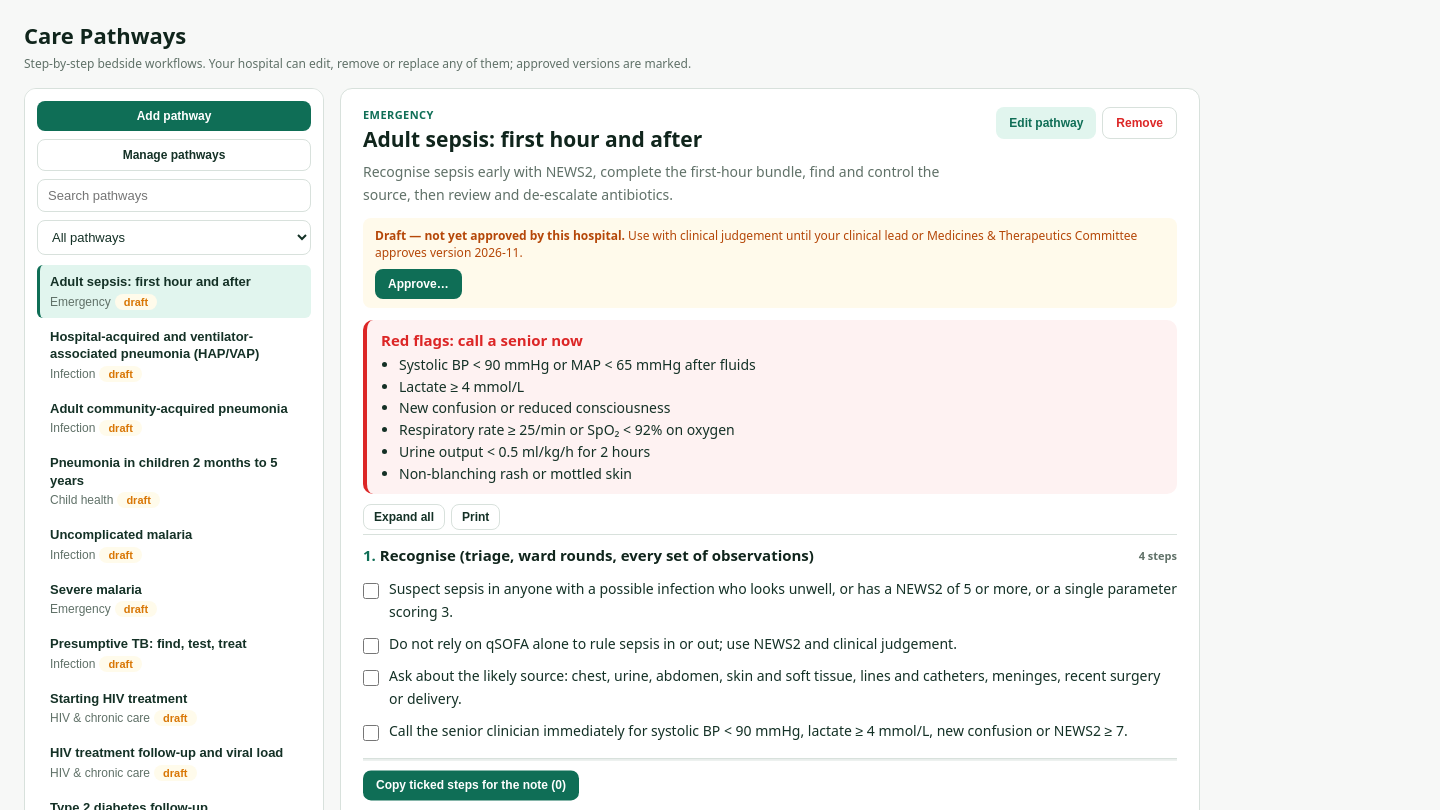
Test: care pathways: hospital control › start fresh hides every built-in pathway and leaves an empty list ready for the hospital's own
Click the button "Manage pathways": (174, 155) x1=37 y1=139 x2=311 y2=171
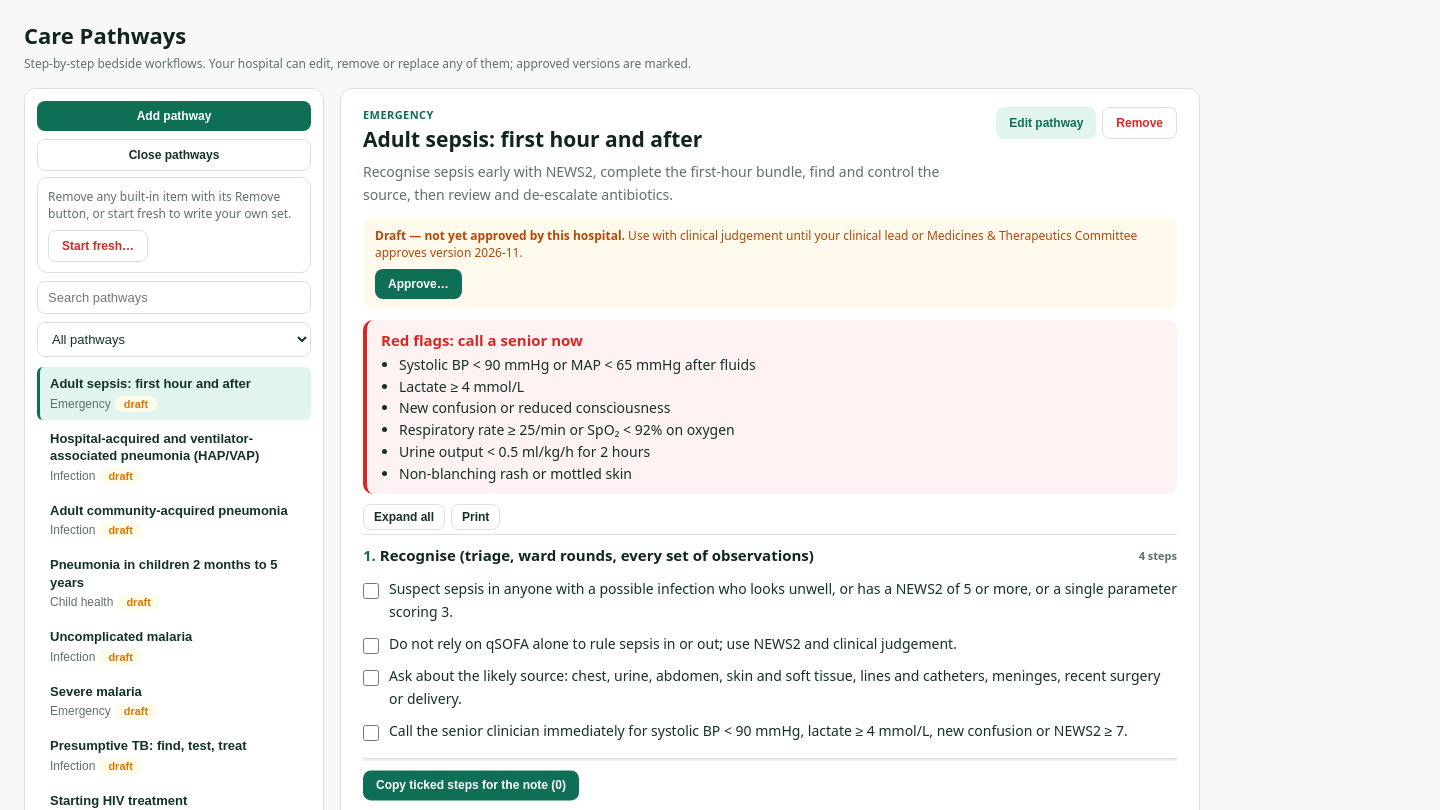
Click the button "Start fresh…": (98, 246) x1=48 y1=230 x2=148 y2=262
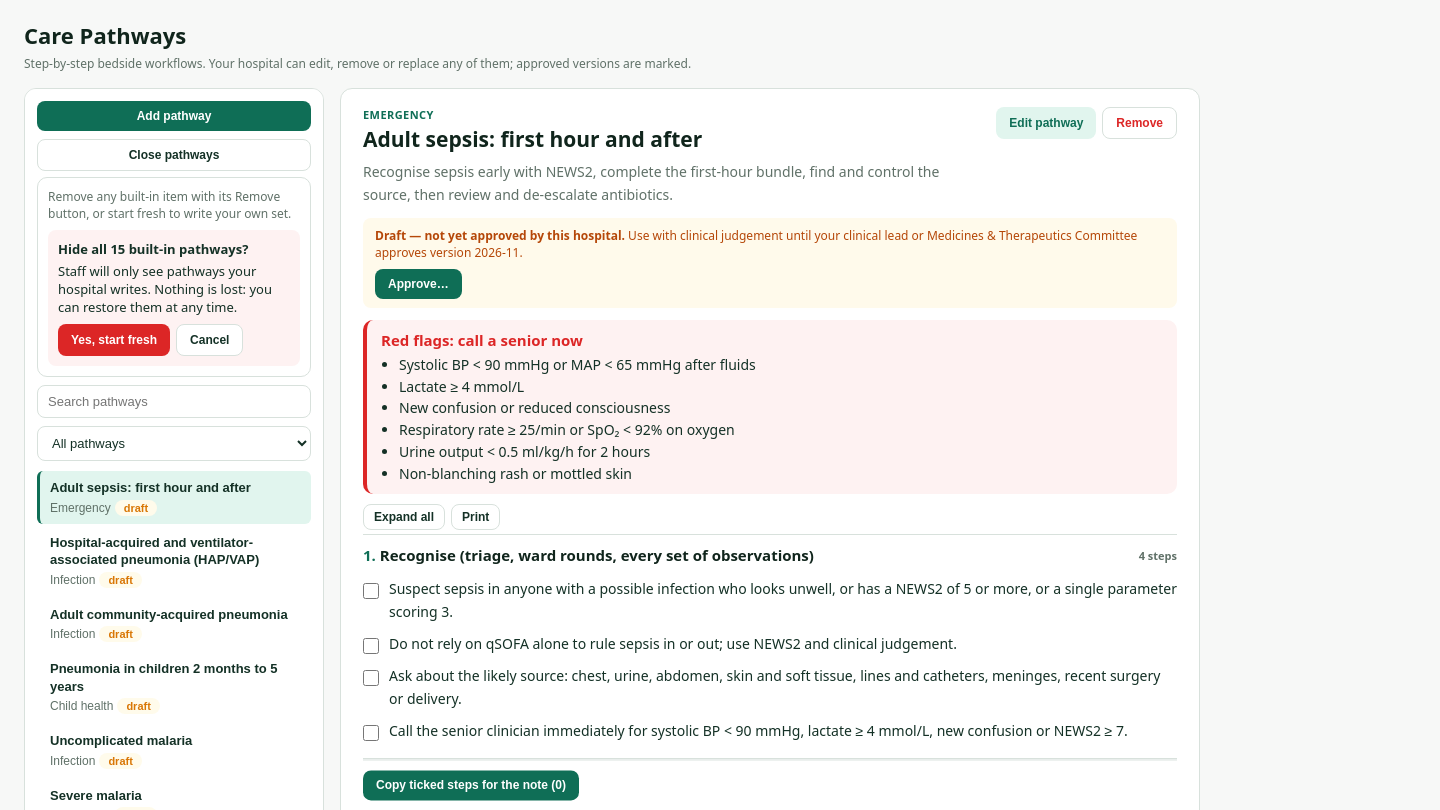
Click the button "Yes, start fresh": (114, 340) x1=58 y1=324 x2=170 y2=356
(page scrolled)
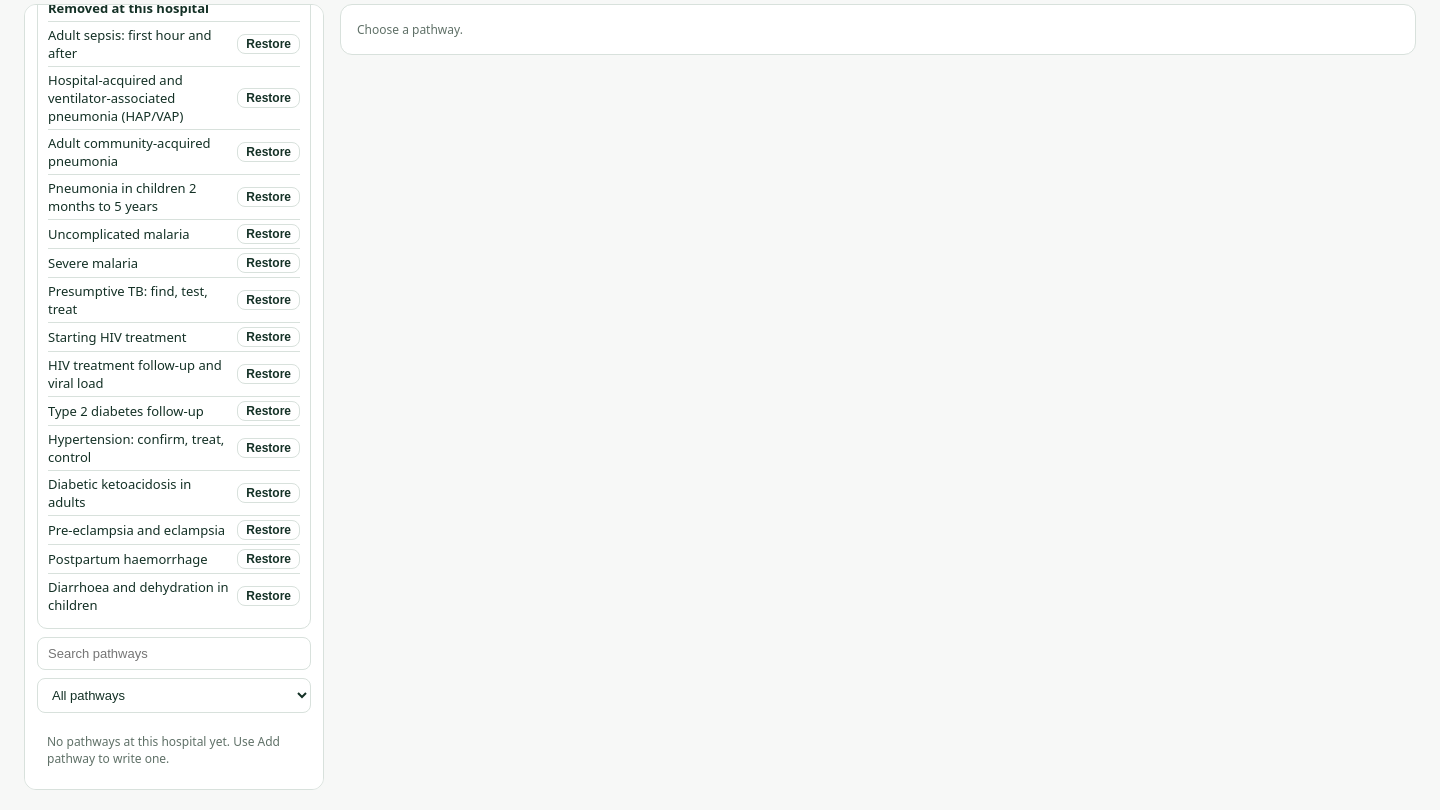
Result: the text "No pathways at this hospital yet" is shown at x1=47 y1=733 x2=280 y2=767
